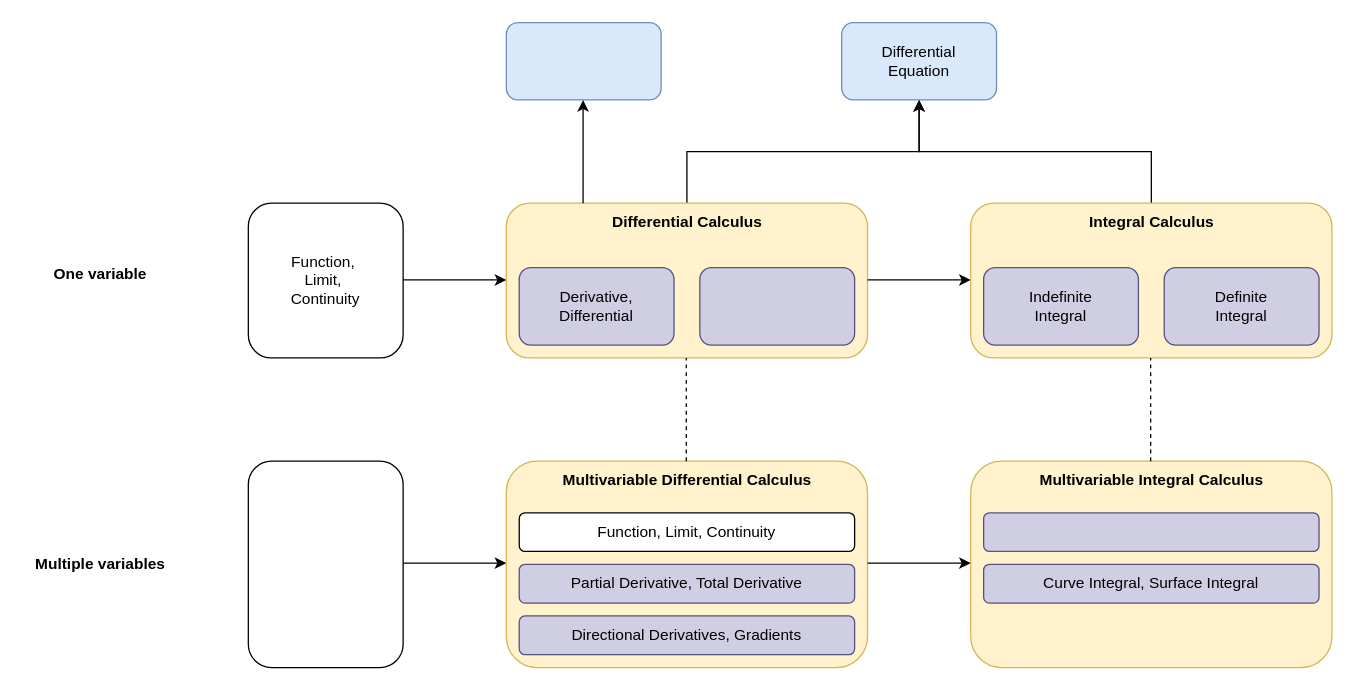
The diagram is 1355 pixels wide and 690 high, and some of its shapes have lost their labels. The shapes that lost their labels are listed below. From the top down, each one's box as (x1, y1, x2, y2) in pixels, then its label:
(505, 21, 661, 100): Series
(699, 266, 855, 345): Differential Theorem
(982, 511, 1319, 551): Double Integral, Triple Integral
(247, 460, 403, 668): Vector algebra, Analytic Geometry
